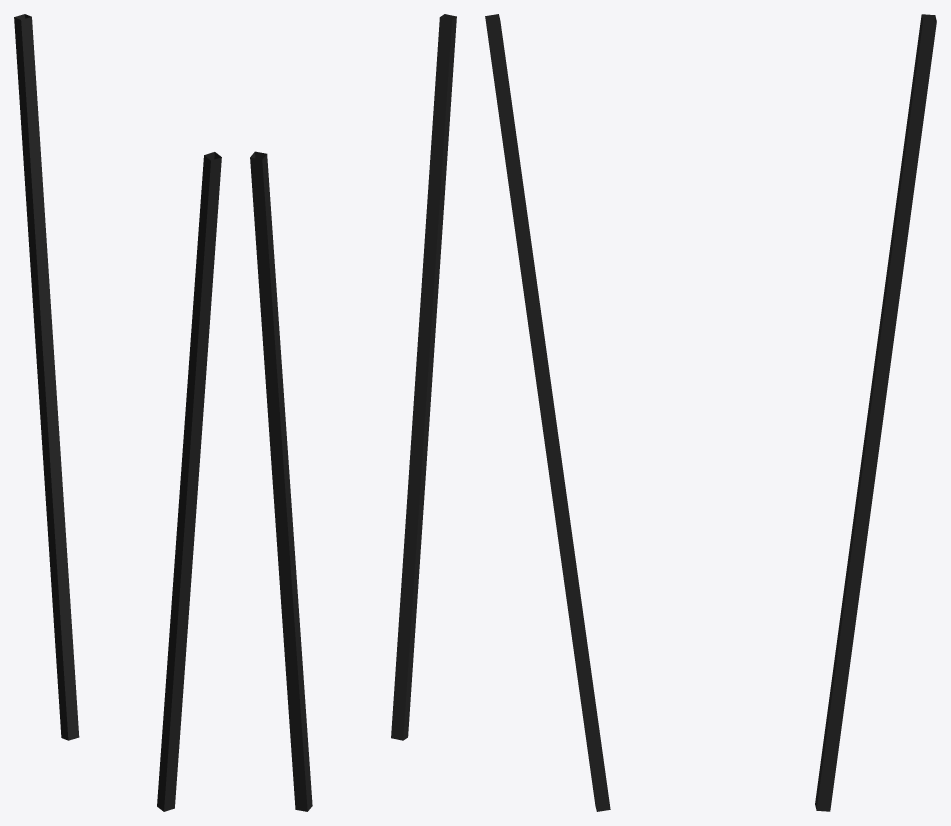
File: SM_wall_window_sbarre_LV4.fbx
The picture shows the model from 3 angles, left to right: view 1: azimuth 30°, elevation 25°; view 2: azimuth 150°, elevation 25°; view 3: azimuth 270°, elevation 25°; orthographic projection. The views are drawn at different scales.
Visible parts, largest first — view 1: polySurface4; view 2: polySurface4; view 3: polySurface4.
Boxes of the visible parts, left/top/right/bottom form: polySurface4: left=14, top=14, right=221, bottom=811; polySurface4: left=250, top=14, right=456, bottom=811; polySurface4: left=485, top=14, right=936, bottom=811.
Bounding box in the file's own units: 13.59 × 661 × 342.
